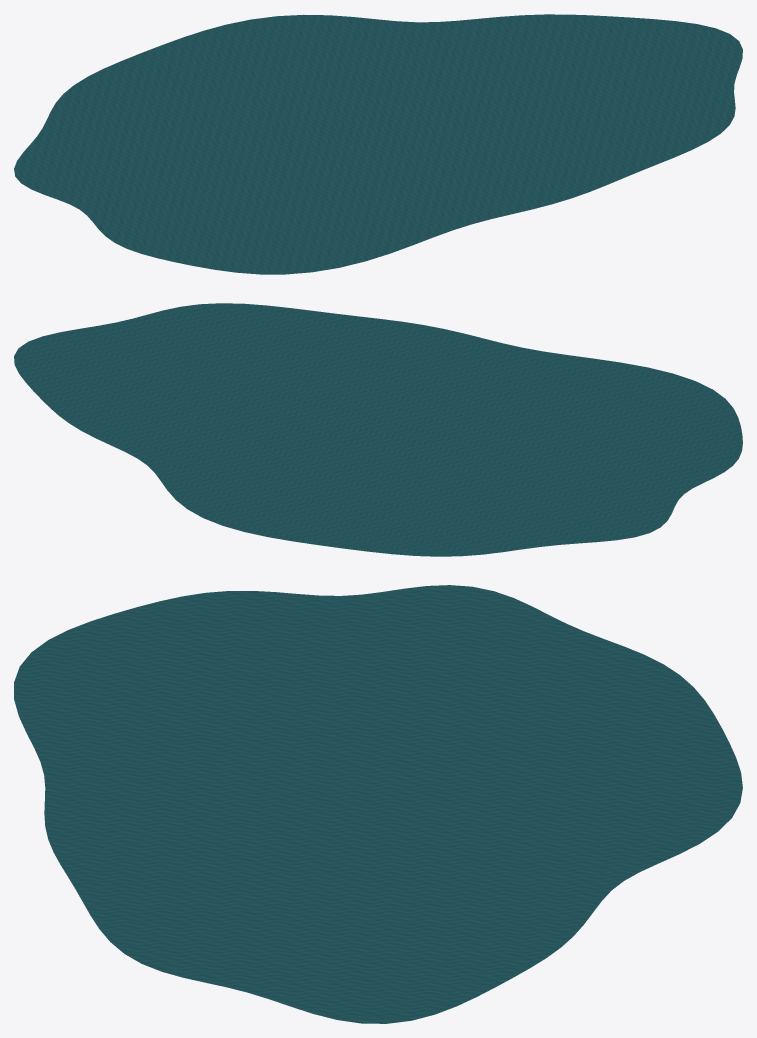
File: western_lake_water.dae
3 renders of one model, top to bottom at view 1: azimuth 30°, elevation 25°; view 2: azimuth 150°, elevation 25°; view 3: azimuth 270°, elevation 25°, orthographic. The views are drawn at different scales.
Parts seen in each view (by area): view 1: Terrain; view 2: Terrain; view 3: Terrain.
Boxes of the visible parts, x1=… form: Terrain: x1=14, y1=14, x2=742, y2=274; Terrain: x1=14, y1=303, x2=742, y2=556; Terrain: x1=14, y1=585, x2=742, y2=1023.
Bounding box in the file's own units: 164 × 115 × 0.
1 material, 1 textured.
